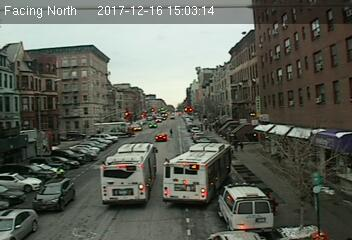bus: (162, 140, 231, 205), (98, 142, 157, 204)
car: (33, 177, 74, 210), (154, 134, 167, 140)
police: (218, 182, 275, 230)
